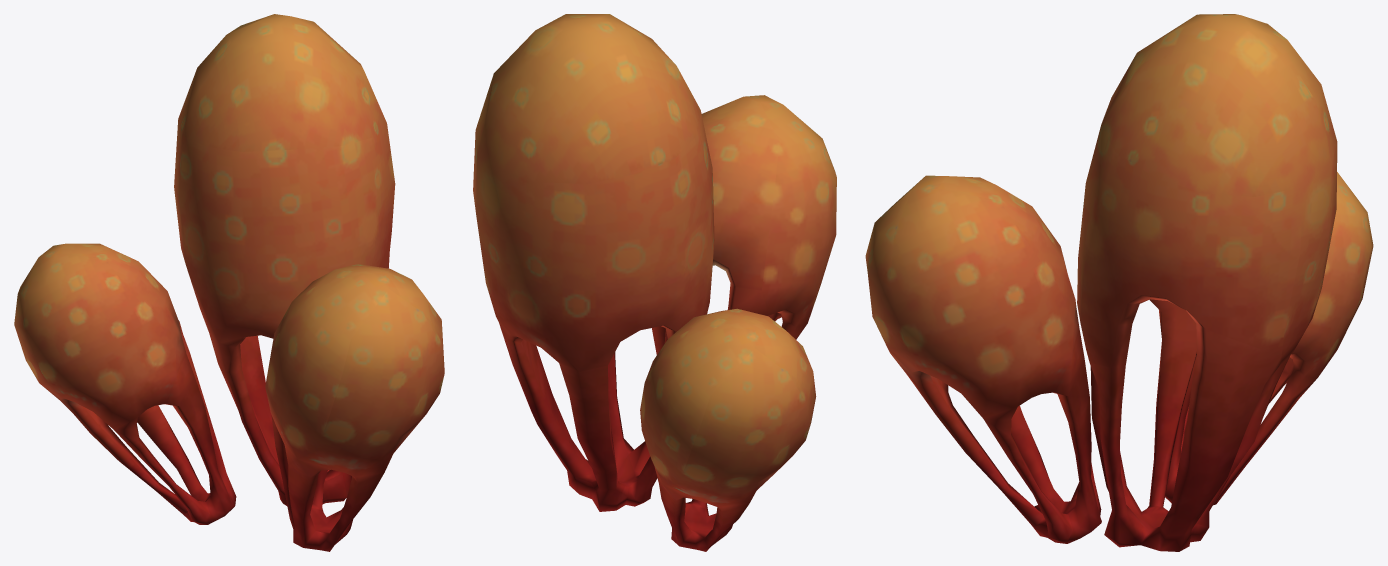
File: cucullus_1.obj
The picture shows the model from 3 angles, left to right: view 1: azimuth 30°, elevation 25°; view 2: azimuth 150°, elevation 25°; view 3: azimuth 270°, elevation 25°; orthographic projection. The views are drawn at different scales.
Parts seen in each view (by area): view 1: parachute_plant02_various_plants_01_Inst.001_0; view 2: parachute_plant02_various_plants_01_Inst.001_0; view 3: parachute_plant02_various_plants_01_Inst.001_0.
Boxes of the visible parts, <box> form: parachute_plant02_various_plants_01_Inst.001_0: <box>14,14,444,551</box>; parachute_plant02_various_plants_01_Inst.001_0: <box>473,14,836,551</box>; parachute_plant02_various_plants_01_Inst.001_0: <box>865,14,1373,551</box>.
Size of the model in its own units: 2.89 by 4.02 by 3.45.
Materials: 1 (1 with a texture image).
